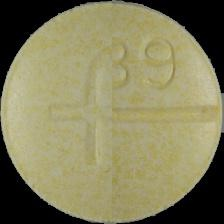43353-510: (0, 0, 224, 224)
